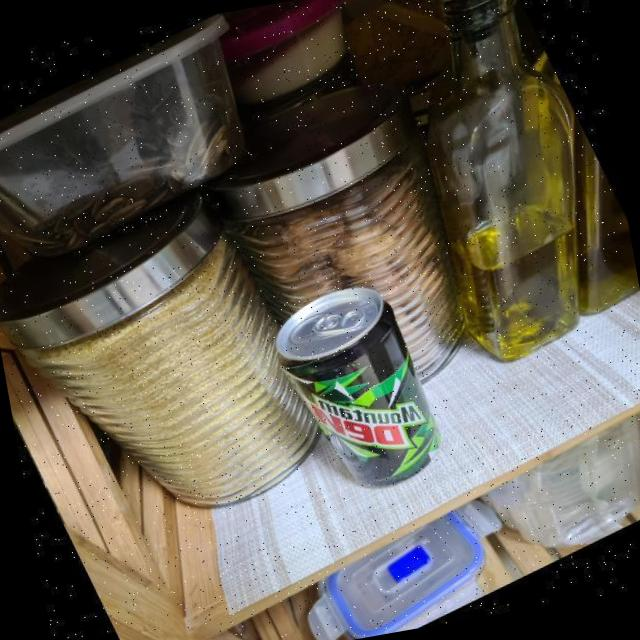Kaleng: (266, 276, 449, 503)
